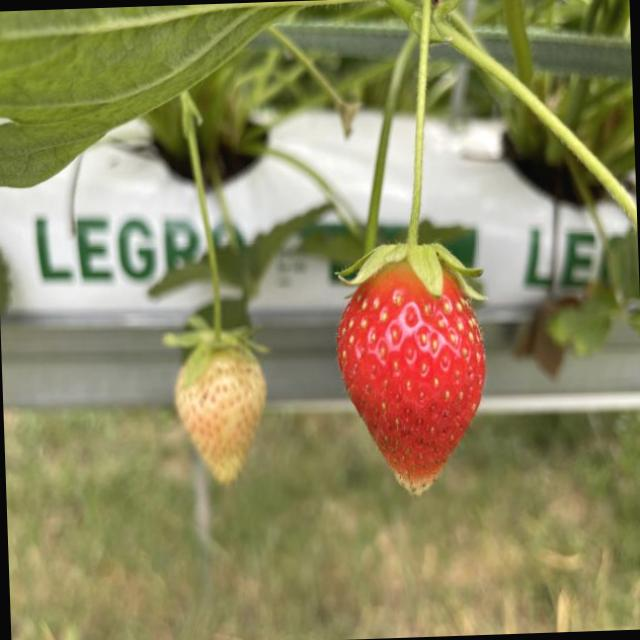stem: (339, 0, 484, 299), (164, 91, 254, 356)
strawberryR: (338, 262, 485, 492), (174, 348, 266, 482)
